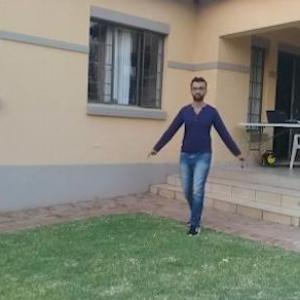land: (154, 83, 244, 225)
